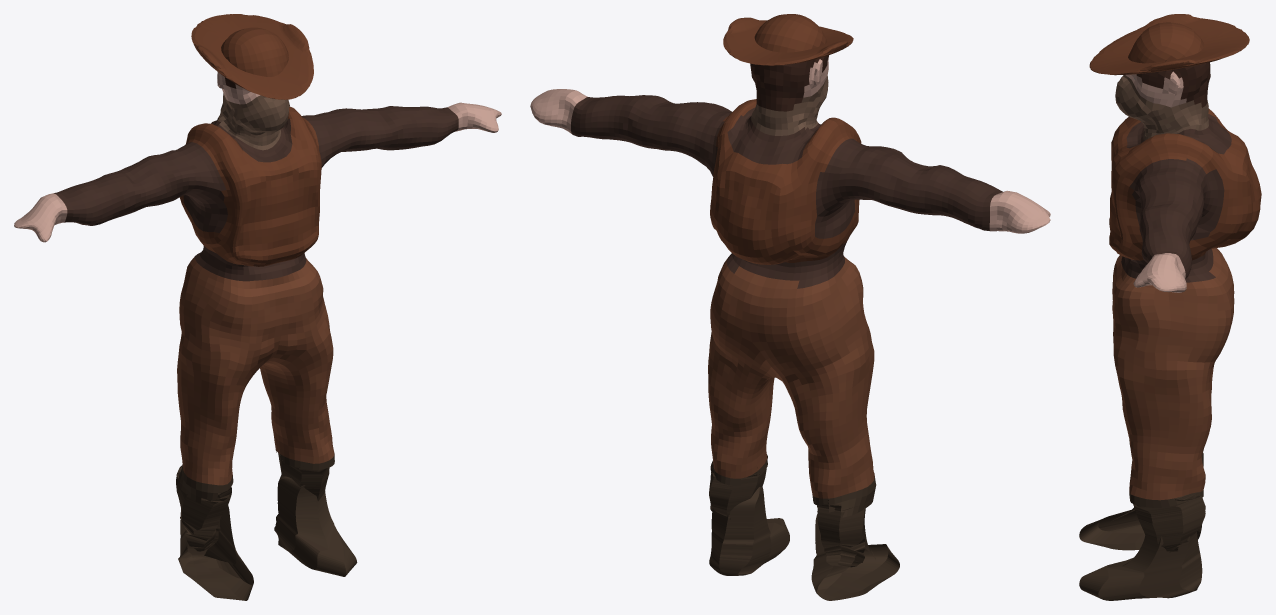
The model's file is Explorer_02.fbx.
3 views of the same model, side by side, from view 1: azimuth 30°, elevation 25°; view 2: azimuth 150°, elevation 25°; view 3: azimuth 270°, elevation 25° (orthographic). The views are drawn at different scales.
Parts seen in each view (by area): view 1: Retopo_Sphere.002; view 2: Retopo_Sphere.002; view 3: Retopo_Sphere.002.
Part boxes in pixels (x1,y1,x2,y2): Retopo_Sphere.002: (14, 14, 501, 600); Retopo_Sphere.002: (530, 14, 1050, 600); Retopo_Sphere.002: (1079, 14, 1261, 600).
Bounding box in the file's own units: 867 × 904 × 276.
